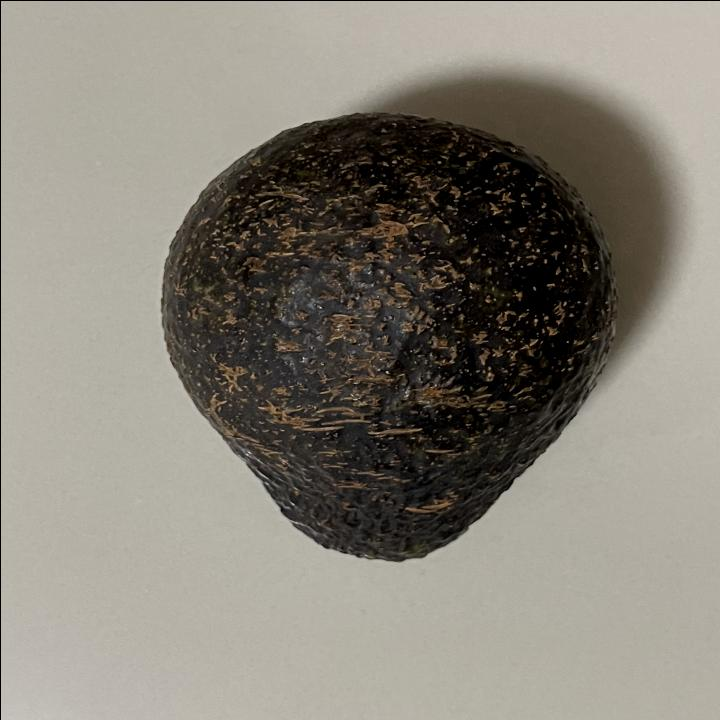Level2: (147, 107, 627, 567)
